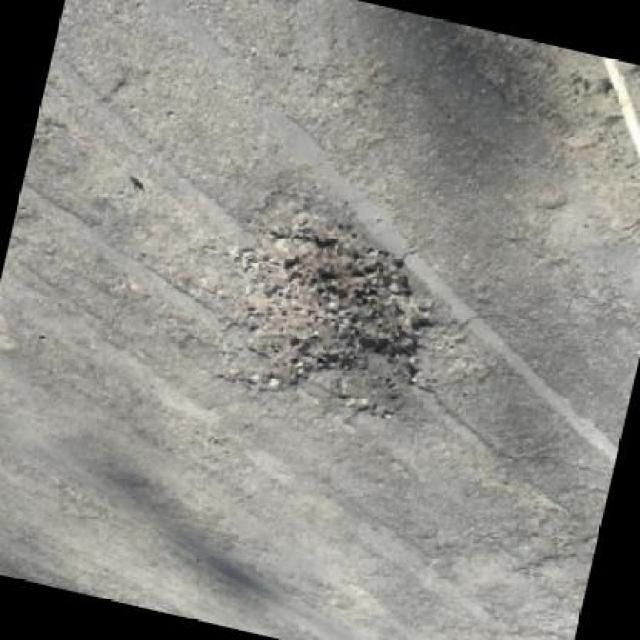pothole: (214, 200, 449, 423)
